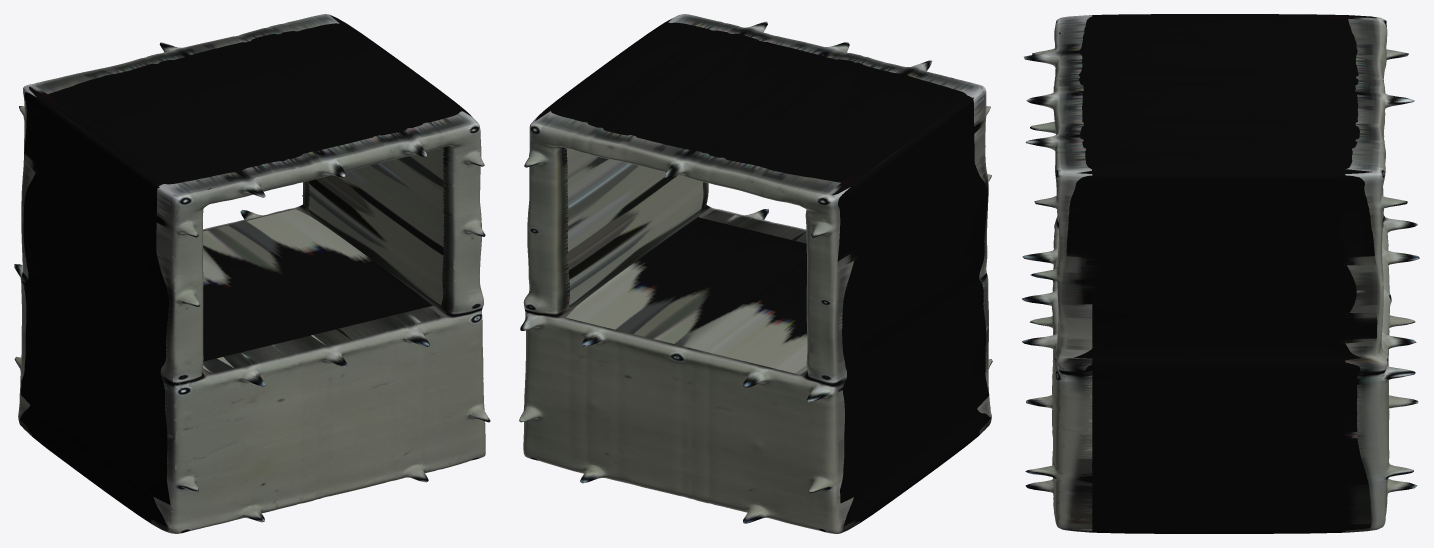
The model's file is door-shop.glb.
3 views of the same model, side by side, from view 1: azimuth 30°, elevation 25°; view 2: azimuth 150°, elevation 25°; view 3: azimuth 270°, elevation 25° (orthographic). The views are drawn at different scales.
Parts seen in each view (by area): view 1: tmpg0pqs6ss.ply; view 2: tmpg0pqs6ss.ply; view 3: tmpg0pqs6ss.ply.
Boxes of the visible parts, x1,y1,x2,y2 form: tmpg0pqs6ss.ply: [14, 14, 490, 533]; tmpg0pqs6ss.ply: [519, 14, 992, 533]; tmpg0pqs6ss.ply: [1022, 14, 1419, 533].
Size of the model in its own units: 1 by 1 by 1.
1 material, 1 textured.
